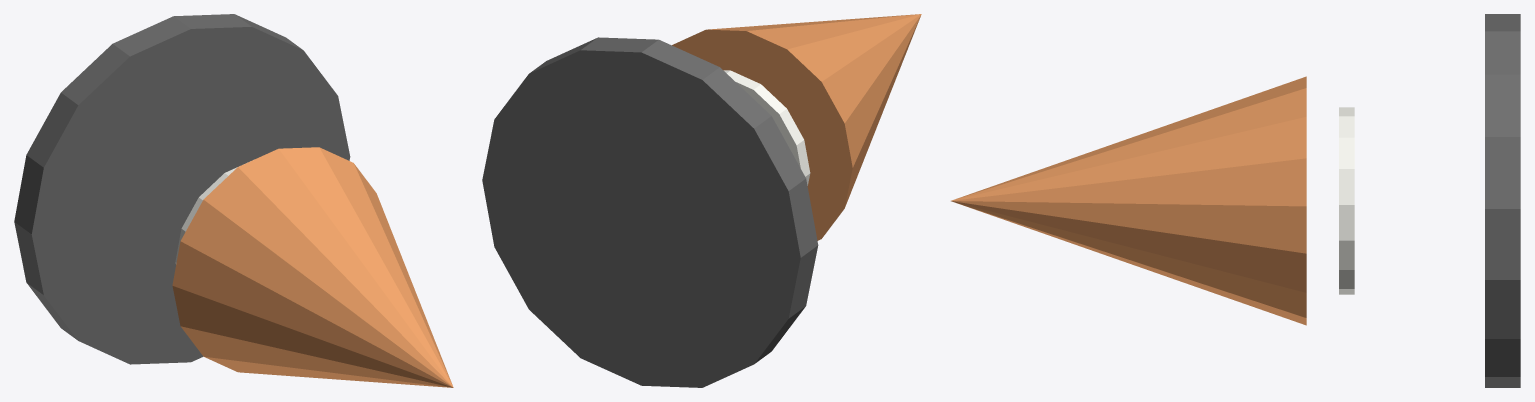
The model's file is road_traffic_cone_orange.glb.
3 views of the same model, side by side, from view 1: azimuth 30°, elevation 25°; view 2: azimuth 150°, elevation 25°; view 3: azimuth 270°, elevation 25° (orthographic).
Visible parts, largest first — view 1: cone_base, cone_body, white_stripe_lower; view 2: cone_base, cone_body, white_stripe_lower; view 3: cone_body, cone_base, white_stripe_lower.
Boxes of the visible parts, x1=… form: cone_base: x1=14, y1=14, x2=350, y2=364; cone_body: x1=172, y1=147, x2=453, y2=387; white_stripe_lower: x1=175, y1=161, x2=250, y2=264; cone_base: x1=482, y1=37, x2=818, y2=387; cone_body: x1=672, y1=14, x2=921, y2=240; white_stripe_lower: x1=723, y1=70, x2=810, y2=185; cone_body: x1=951, y1=76, x2=1306, y2=325; cone_base: x1=1485, y1=14, x2=1520, y2=387; white_stripe_lower: x1=1339, y1=107, x2=1354, y2=294.
Size of the model in its own units: 0.84 by 0.84 by 1.28.
